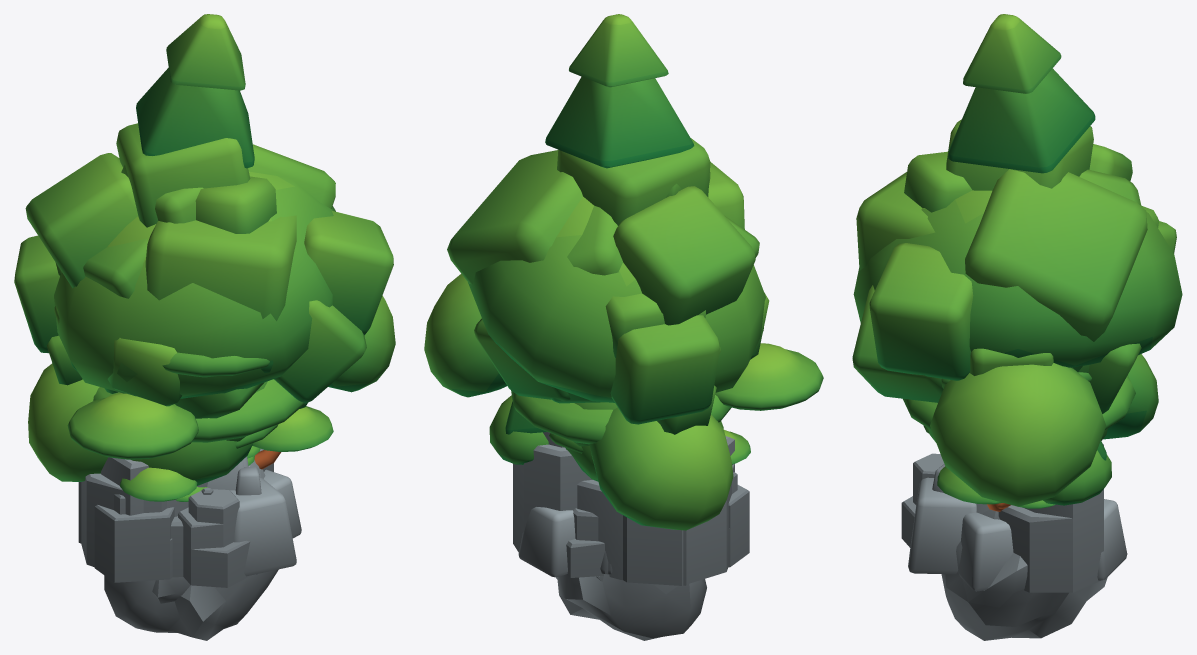
File: forest.glb
3 views of the same model, side by side, from view 1: azimuth 30°, elevation 25°; view 2: azimuth 150°, elevation 25°; view 3: azimuth 270°, elevation 25° (orthographic). The views are drawn at different scales.
Visible parts, largest first — view 1: Tree_2_E_Color1, Tree_1_C_Color1, Tree_4_C_Color1, Tree_3_C_Color1, Rock_1_J_Color1, Rock_3_N_Color1, Rock_1_M_Color1, Tree_3_B_Color1, Rock_2_E_Color1, Tree_2_D_Color1, Tree_1_A_Color1, Rock_2_G_Color1 (+3 smaller); view 2: Tree_2_E_Color1, Tree_1_C_Color1, Tree_4_C_Color1, Rock_1_M_Color1, Rock_1_J_Color1, Rock_3_N_Color1, Tree_3_C_Color1, Tree_3_B_Color1, Rock_2_G_Color1, Tree_2_D_Color1, Tree_1_B_Color1, Tree_2_C_Color1; view 3: Tree_2_E_Color1, Tree_1_C_Color1, Tree_4_C_Color1, Rock_3_N_Color1, Rock_1_M_Color1, Rock_2_G_Color1, Rock_2_E_Color1, Tree_1_B_Color1, Tree_3_B_Color1, Tree_3_C_Color1, Rock_1_J_Color1, Tree_2_D_Color1.
Boxes of the visible parts, left/top/right/bottom form: Tree_2_E_Color1: left=14, top=123, right=393, bottom=418; Tree_1_C_Color1: left=28, top=171, right=395, bottom=481; Tree_4_C_Color1: left=121, top=14, right=254, bottom=176; Tree_3_C_Color1: left=67, top=352, right=333, bottom=469; Rock_1_J_Color1: left=81, top=457, right=250, bottom=587; Rock_3_N_Color1: left=104, top=460, right=278, bottom=640; Rock_1_M_Color1: left=78, top=448, right=273, bottom=582; Tree_3_B_Color1: left=93, top=379, right=304, bottom=501; Rock_2_E_Color1: left=207, top=460, right=296, bottom=576; Tree_2_D_Color1: left=55, top=187, right=203, bottom=370; Tree_1_A_Color1: left=131, top=440, right=253, bottom=485; Rock_2_G_Color1: left=243, top=456, right=301, bottom=574; Tree_2_E_Color1: left=447, top=138, right=769, bottom=424; Tree_1_C_Color1: left=424, top=196, right=765, bottom=530; Tree_4_C_Color1: left=505, top=14, right=694, bottom=434; Rock_1_M_Color1: left=513, top=432, right=749, bottom=585; Rock_1_J_Color1: left=566, top=436, right=734, bottom=585; Rock_3_N_Color1: left=556, top=574, right=706, bottom=640; Tree_3_C_Color1: left=715, top=343, right=823, bottom=410; Tree_3_B_Color1: left=511, top=390, right=750, bottom=464; Rock_2_G_Color1: left=518, top=507, right=612, bottom=577; Tree_2_D_Color1: left=550, top=172, right=759, bottom=403; Tree_1_B_Color1: left=489, top=395, right=617, bottom=464; Tree_2_C_Color1: left=657, top=347, right=720, bottom=434; Tree_2_E_Color1: left=852, top=119, right=1176, bottom=413; Tree_1_C_Color1: left=853, top=190, right=1182, bottom=506; Tree_4_C_Color1: left=948, top=14, right=1106, bottom=460; Rock_3_N_Color1: left=941, top=503, right=1107, bottom=640; Rock_1_M_Color1: left=998, top=443, right=1103, bottom=592; Rock_2_G_Color1: left=958, top=499, right=1127, bottom=591; Rock_2_E_Color1: left=908, top=464, right=976, bottom=574; Tree_1_B_Color1: left=1043, top=450, right=1111, bottom=505; Tree_3_B_Color1: left=903, top=375, right=1135, bottom=433; Tree_3_C_Color1: left=937, top=372, right=1091, bottom=511; Rock_1_J_Color1: left=901, top=453, right=944, bottom=547; Tree_2_D_Color1: left=941, top=169, right=1141, bottom=388.
Bounding box in the file's own units: 7.18 × 12.01 × 5.77.
Materials: 1 (1 with a texture image).
